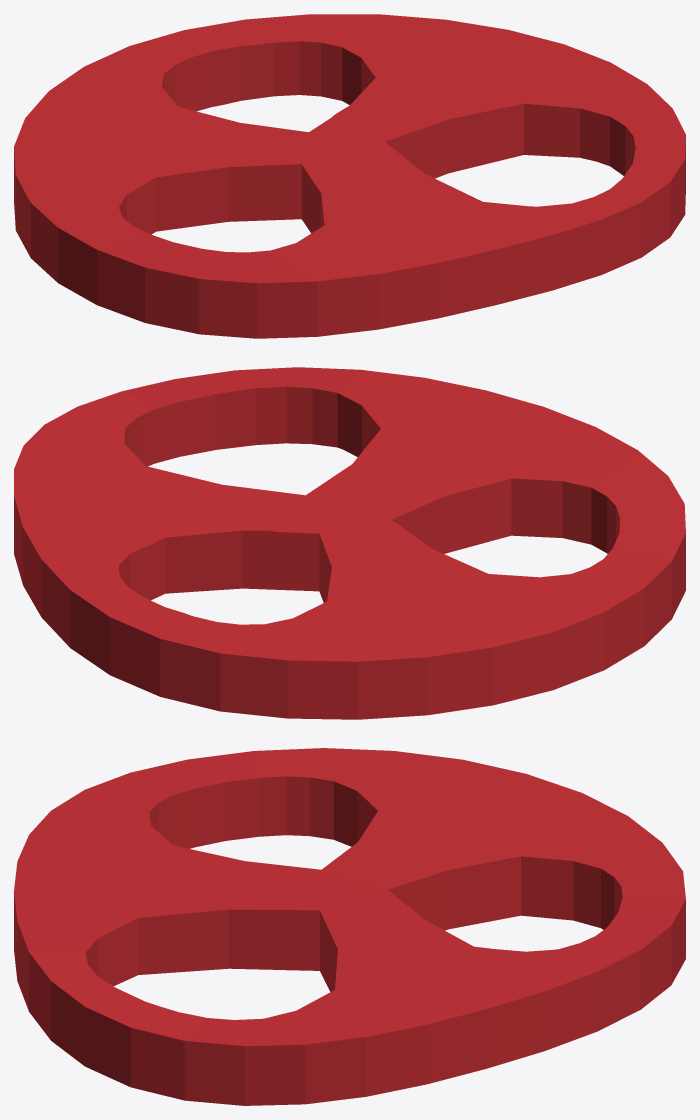
File: tomato.glb
The picture shows the model from 3 angles, top to bottom: view 1: azimuth 30°, elevation 25°; view 2: azimuth 150°, elevation 25°; view 3: azimuth 270°, elevation 25°; orthographic projection. The views are drawn at different scales.
Parts seen in each view (by area): view 1: Cylinder; view 2: Cylinder; view 3: Cylinder.
Boxes of the visible parts, <box> form: Cylinder: <box>14,14,685,338</box>; Cylinder: <box>14,367,685,719</box>; Cylinder: <box>14,748,685,1105</box>.
Bounding box in the file's own units: 0.0796 × 0.00917 × 0.074.
